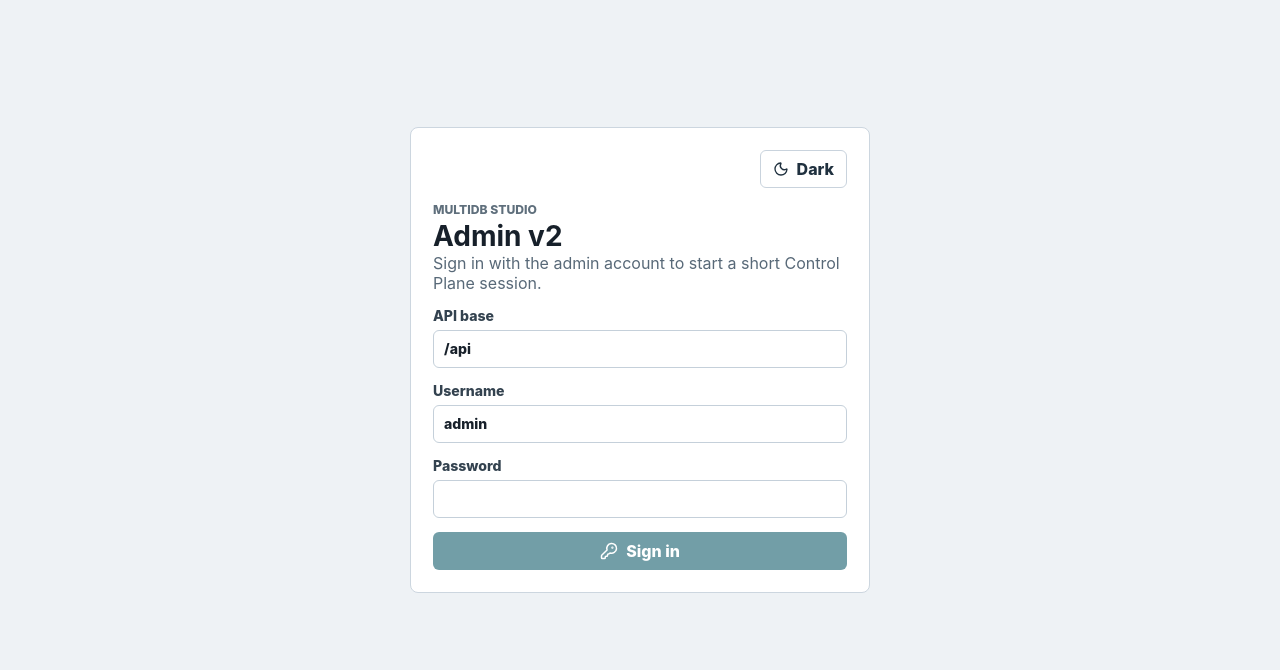
Scenario: App › loads Data Explorer rows with bounded pagination parameters
Type "secret" into the password field labelled "Password".
click(640, 499); type("secret")  # box [433, 480, 847, 518]
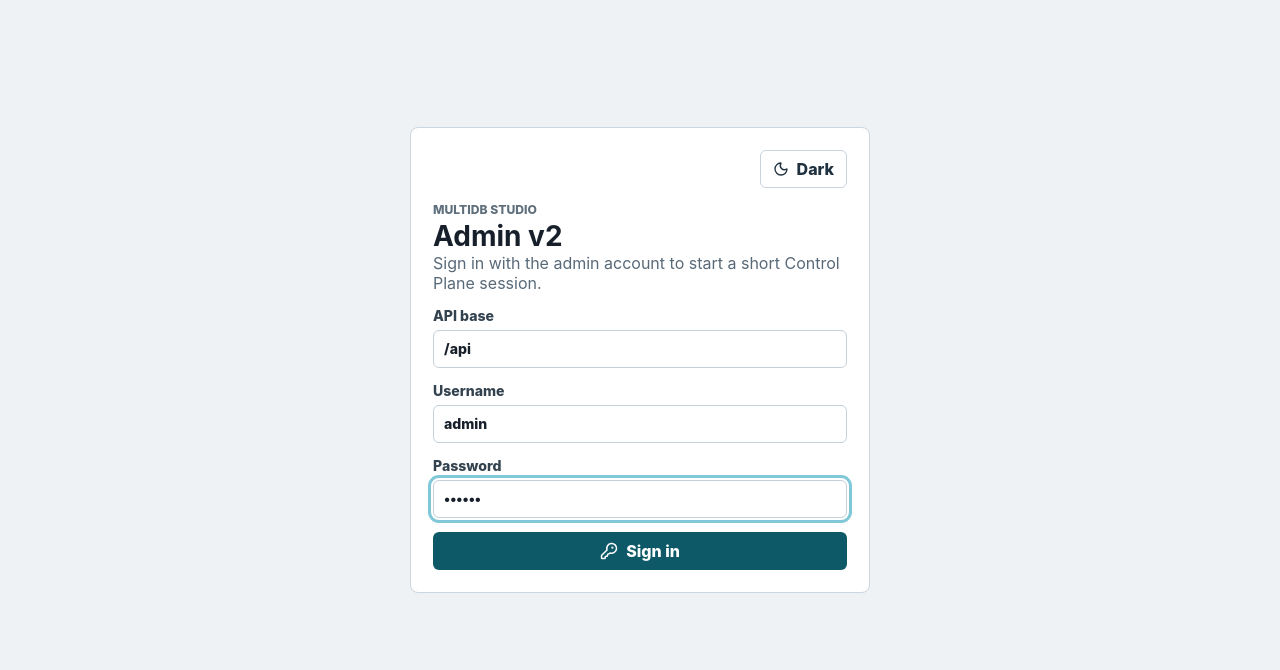
Click the button "Sign in".
click(640, 551)  # box [433, 532, 847, 570]
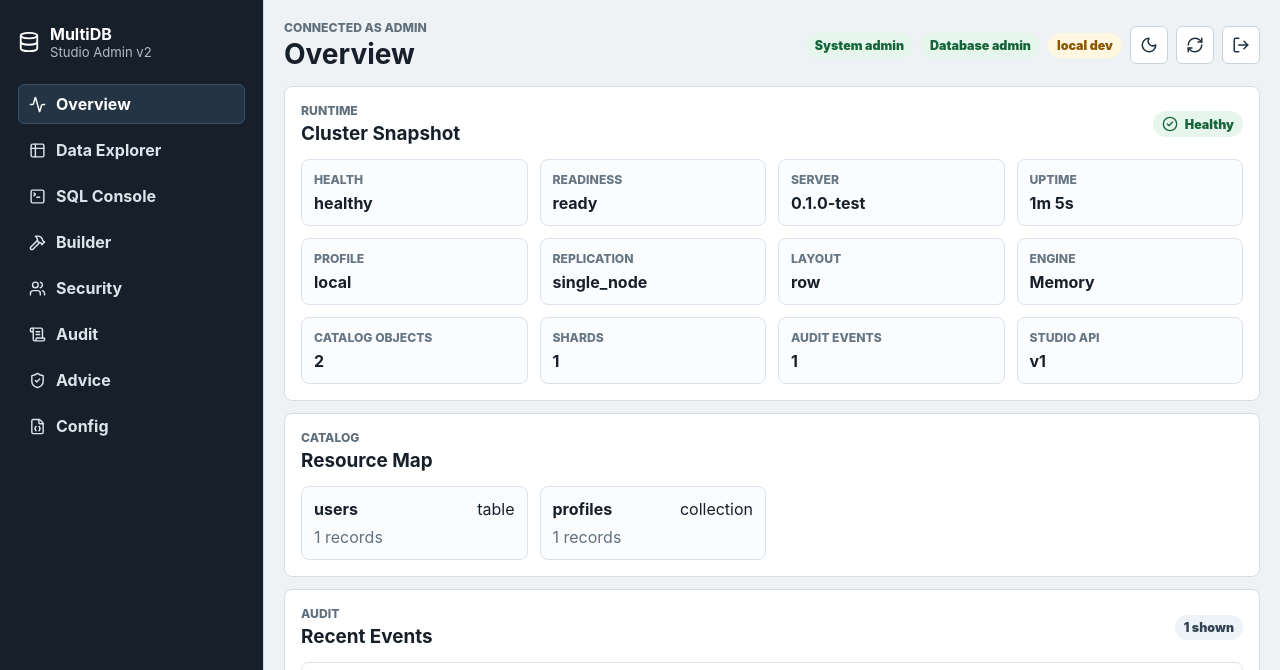
Result: the text "0.1.0-test" is shown at [791, 193, 865, 213]
Click the button "Data Explorer".
click(132, 150)  # box [18, 130, 245, 170]
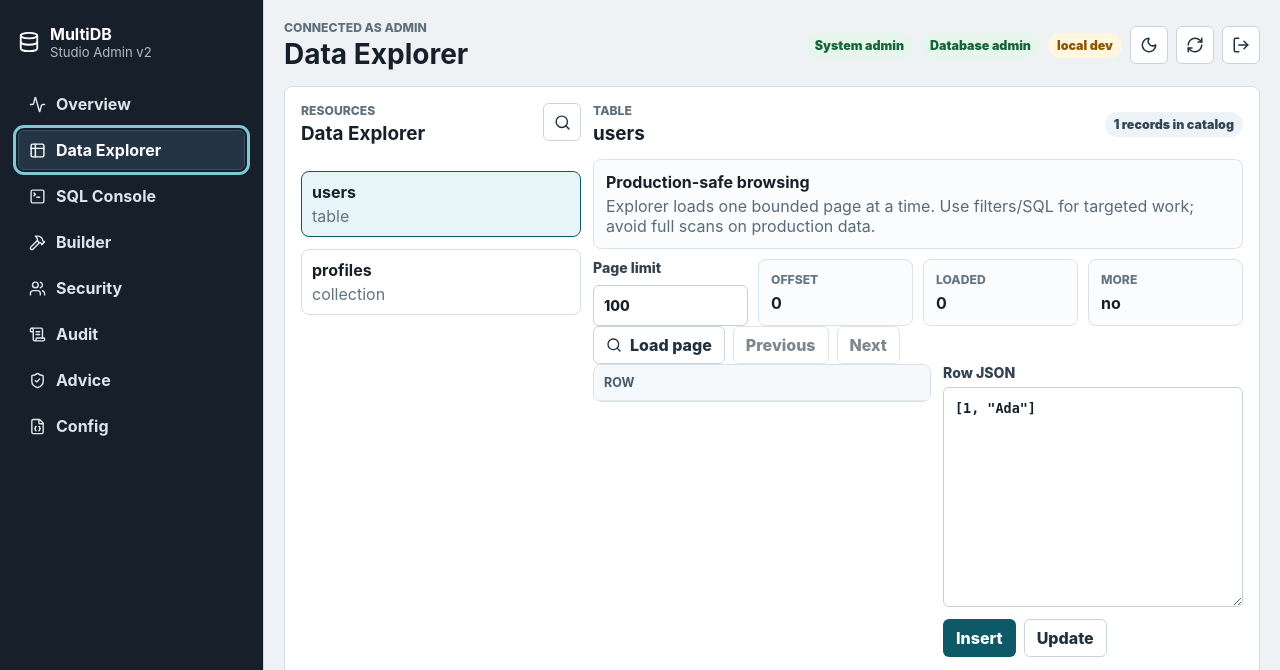
Click the button "Load page".
click(659, 345)  # box [593, 326, 725, 364]
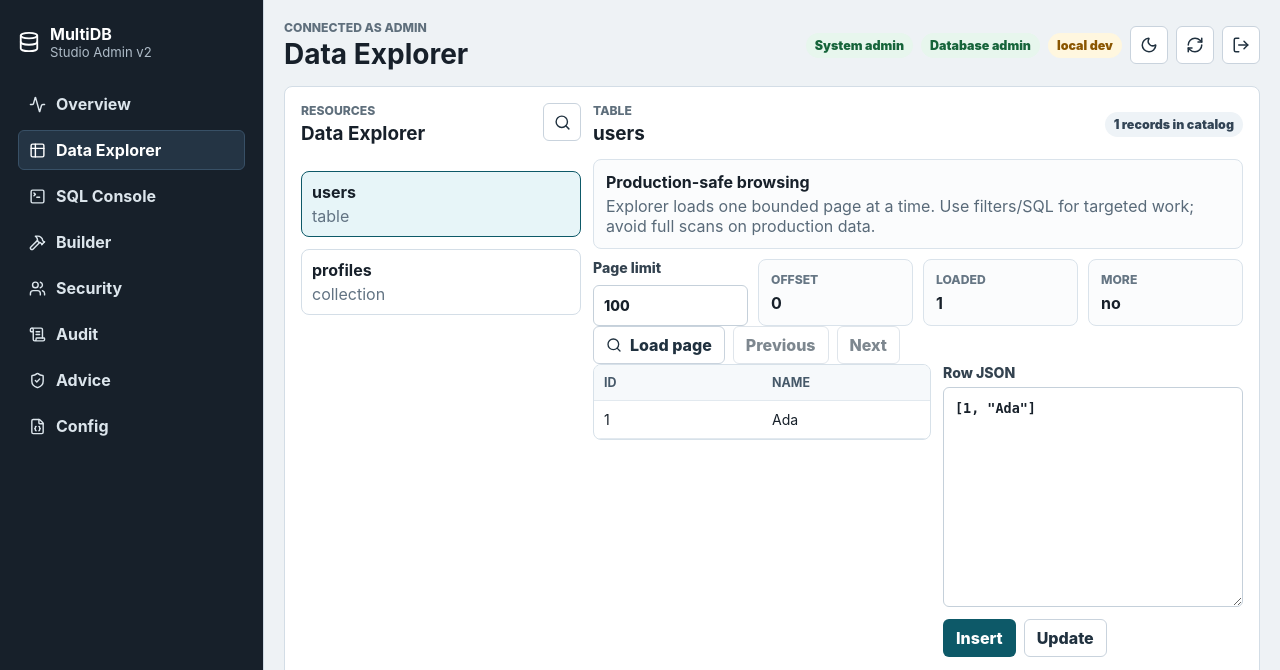
Result: the text "Ada" is shown at [762, 401, 930, 439]
